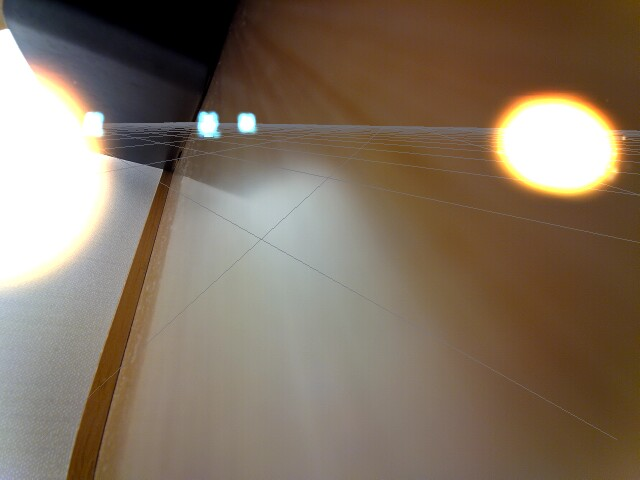firebig: (0, 40, 108, 288)
